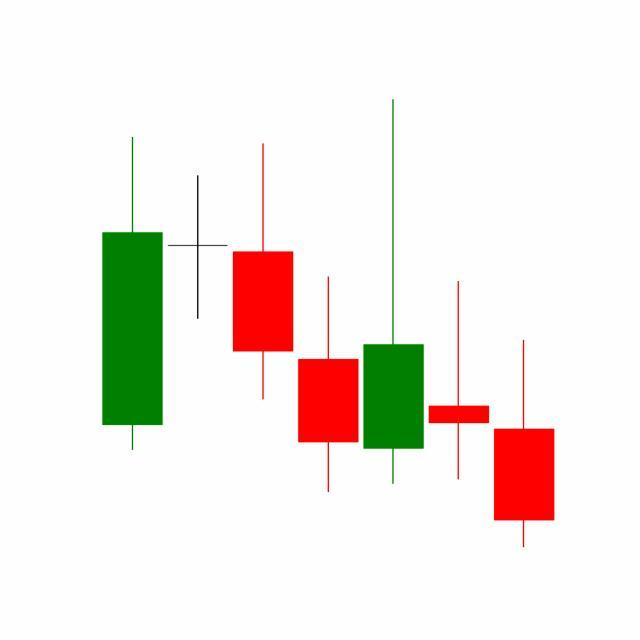Three Inside Up-Down: (360, 99, 556, 549)
